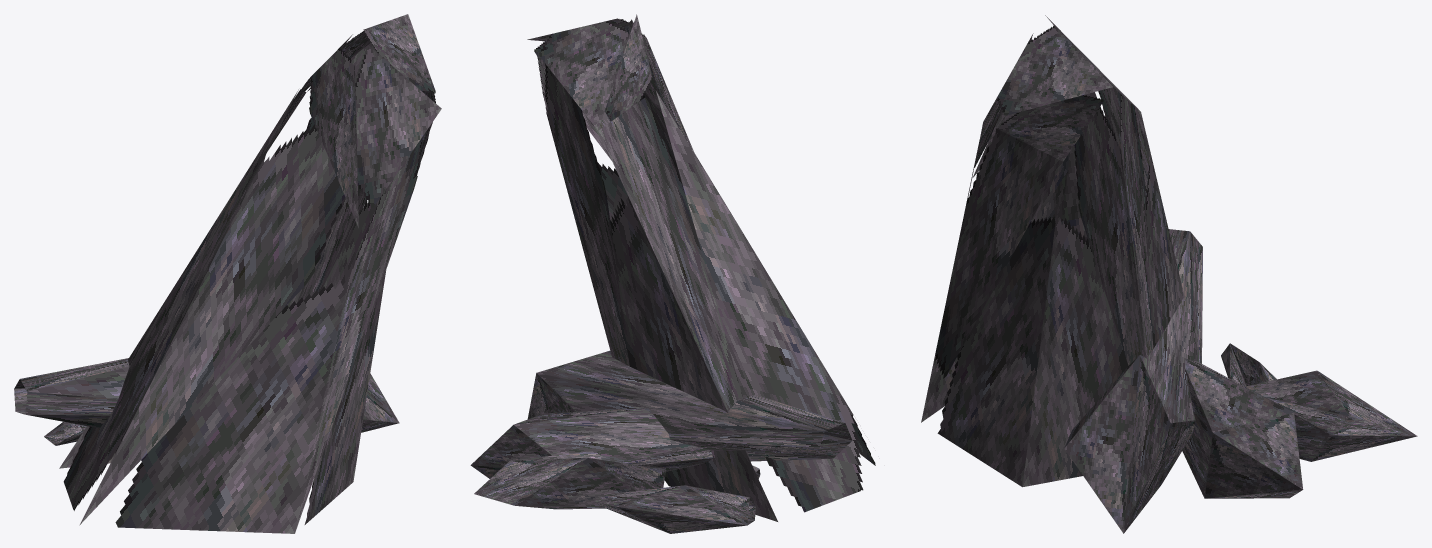
File: shitou_001_1.FBX
The picture shows the model from 3 angles, left to right: view 1: azimuth 30°, elevation 25°; view 2: azimuth 150°, elevation 25°; view 3: azimuth 270°, elevation 25°; orthographic projection. The views are drawn at different scales.
Visible parts, largest first — view 1: shitou_001_1; view 2: shitou_001_1; view 3: shitou_001_1.
Part boxes in pixels (x1=…): shitou_001_1: x1=14, y1=14, x2=441, y2=533; shitou_001_1: x1=470, y1=14, x2=875, y2=533; shitou_001_1: x1=921, y1=15, x2=1417, y2=533.
Size of the model in its own units: 45.54 by 52.78 by 49.23.
